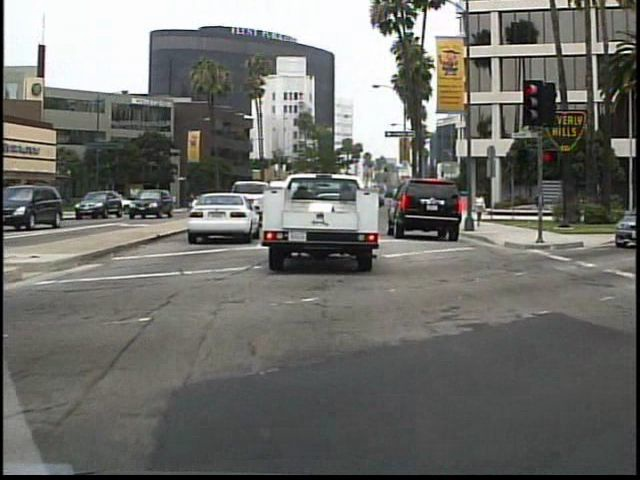person: (470, 188, 487, 234)
